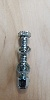FinishedAssembly: (14, 28, 34, 94)
